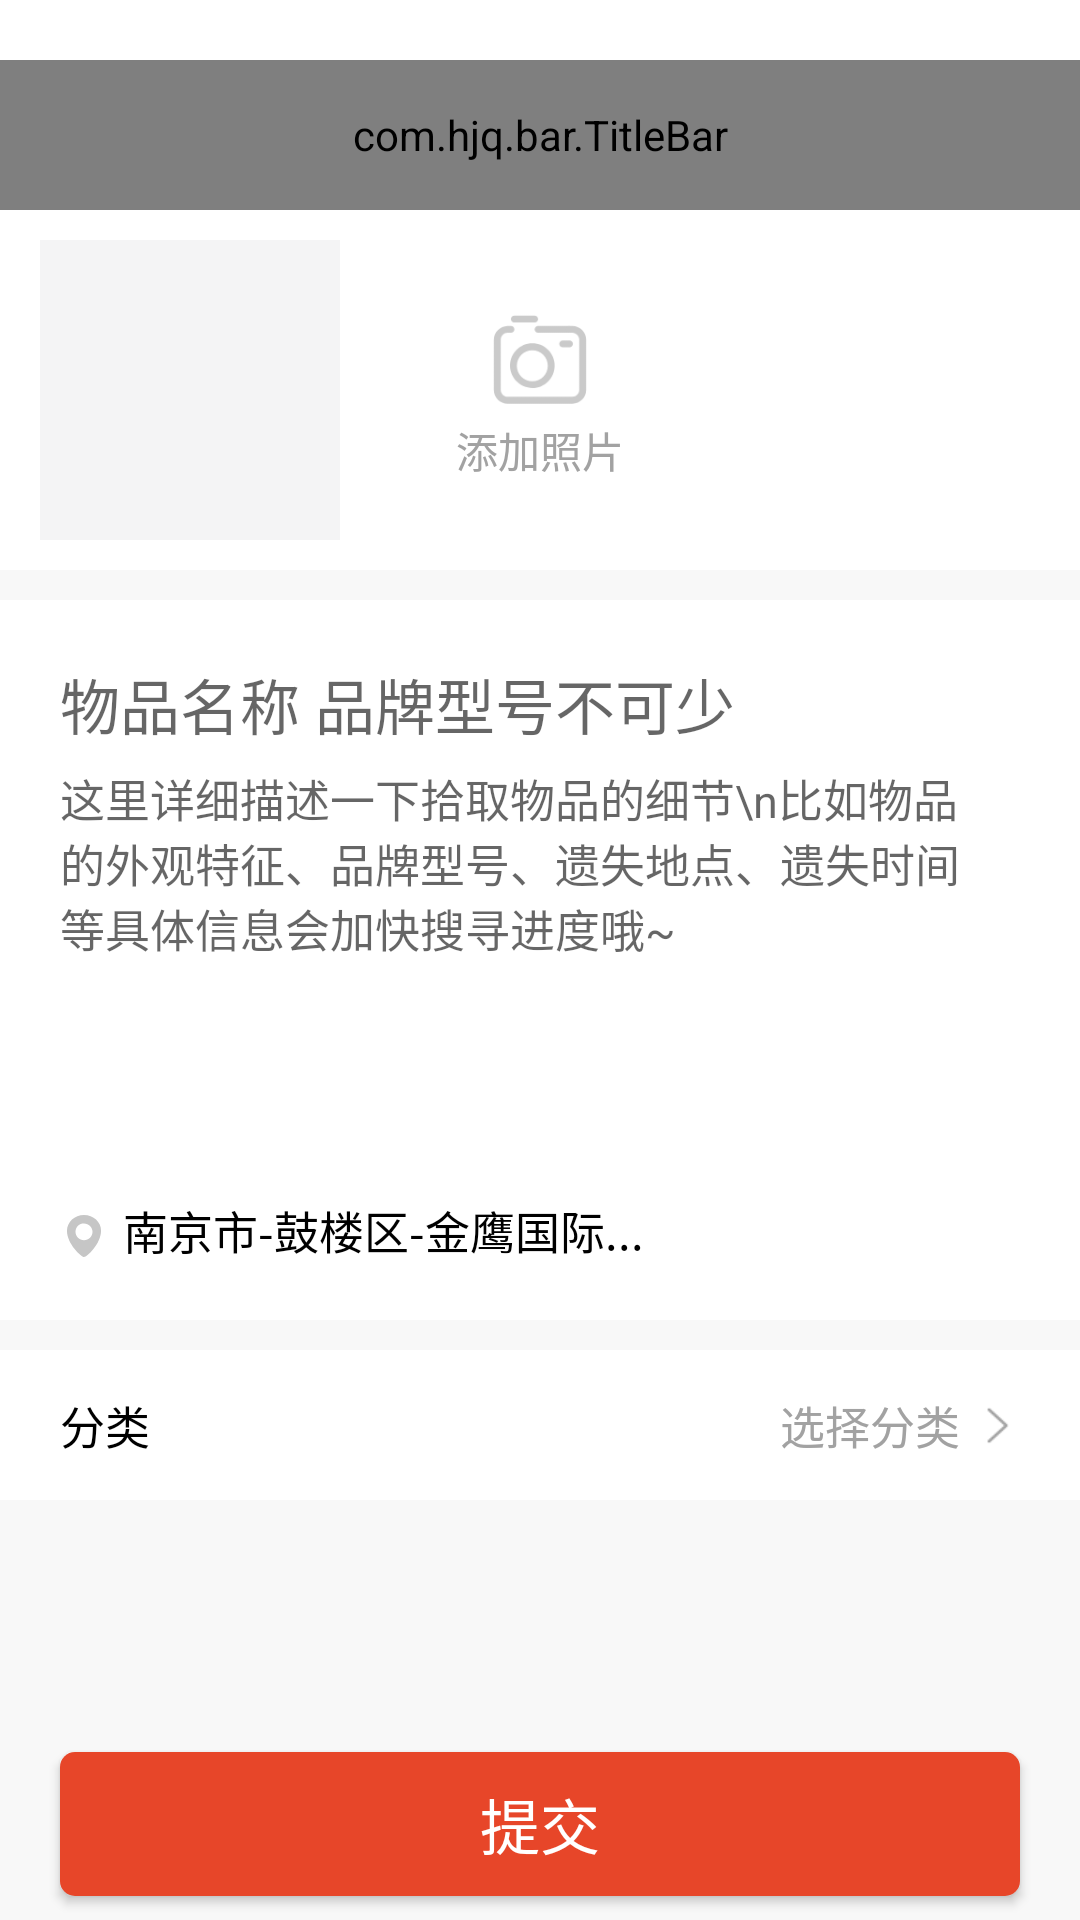

Screen size 1080w x 1920h. Icon name, then its center in pixels as (x=x, y=y):
location: (x=84, y=1236)
right: (x=997, y=1425)
